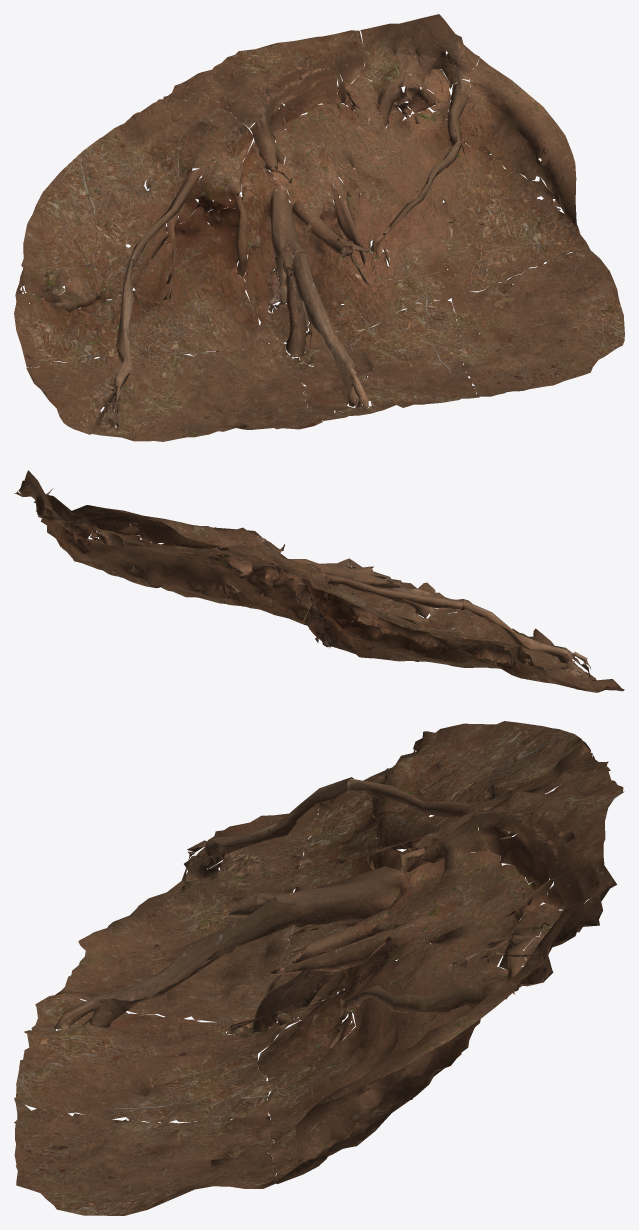
Rendered from root_cluster_01_LOD1.fbx.
The picture shows the model from 3 angles, top to bottom: view 1: azimuth 30°, elevation 25°; view 2: azimuth 150°, elevation 25°; view 3: azimuth 270°, elevation 25°; orthographic projection. The views are drawn at different scales.
Parts seen in each view (by area): view 1: root_cluster_01.001; view 2: root_cluster_01.001; view 3: root_cluster_01.001.
Boxes of the visible parts, x1,y1,x2,y2 form: root_cluster_01.001: (14, 14, 624, 441); root_cluster_01.001: (14, 470, 624, 692); root_cluster_01.001: (14, 721, 624, 1215).
Bounding box in the file's own units: 4.12 × 1.51 × 2.69.
1 material, 1 textured.
